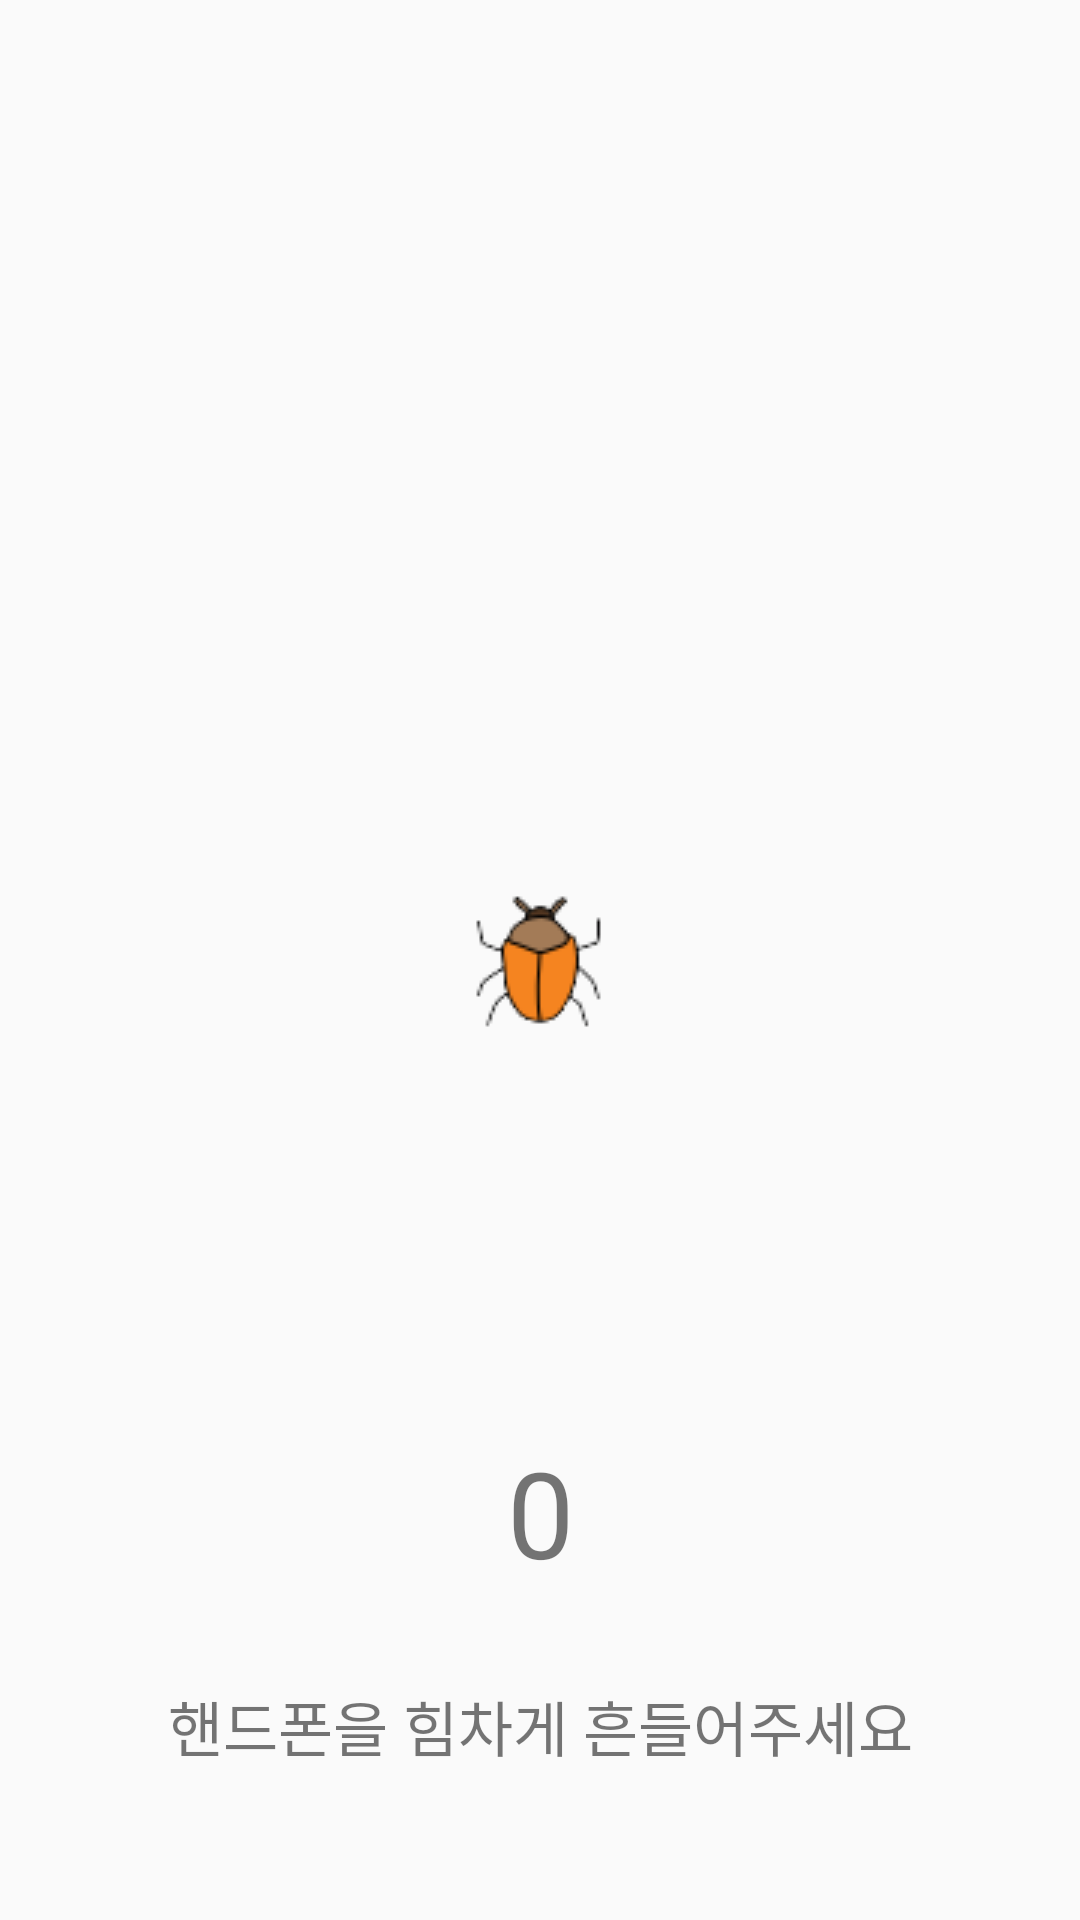

Screen size 1080×1920. Icon name, then its box in pixels as {"left": x1, "top": y1, "right": x2, "bottom": y2}:
bug: {"left": 476, "top": 896, "right": 601, "bottom": 1027}
